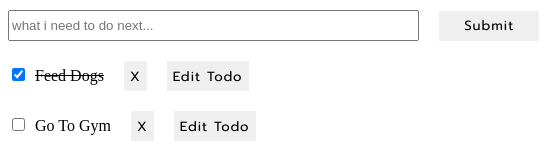
Scenario: removes the todo
Check: the text "Feed Dogs" is shown, box [35,66,104,84]
Click the button "X" next to "Feed Dogs": {"x": 135, "y": 76} [124,61,147,91]
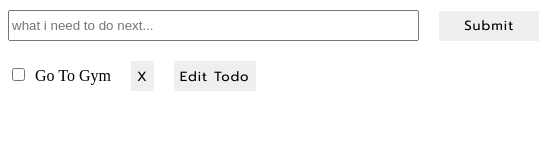
Check: the text "Feed Dogs" is gone
